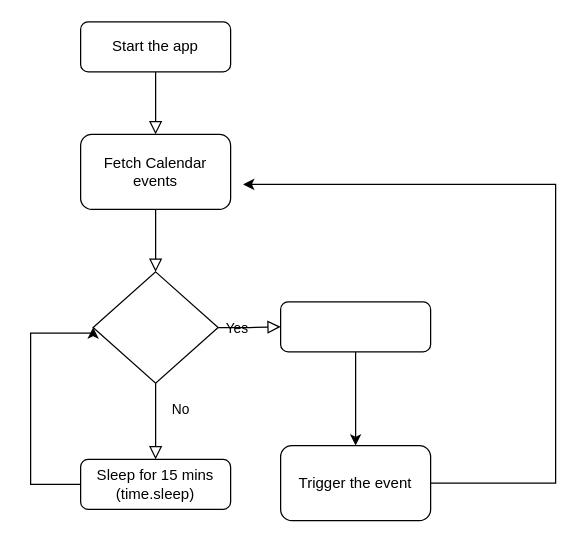
The diagram is 588 pixels wide and 543 high, and some of its shapes have lost their labels. The shapes that lost their labels are listed below. From the top down, each one's centre as x and y in pixels, then its label:
At (x=155, y=327): "The nearest event in next 15 mins?".
At (x=355, y=326): "Add the relative time delta in time.sleep".
